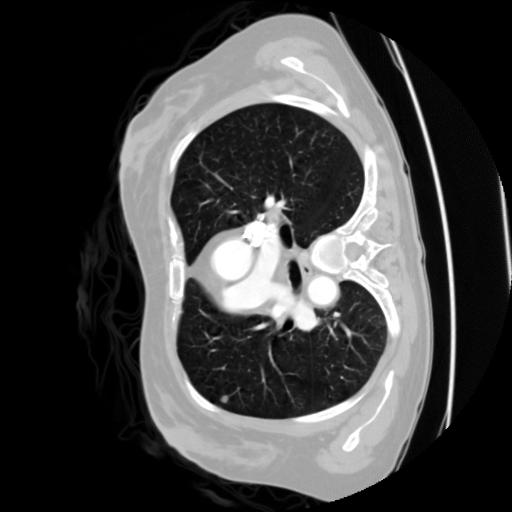nodule: (217, 391, 231, 405)
